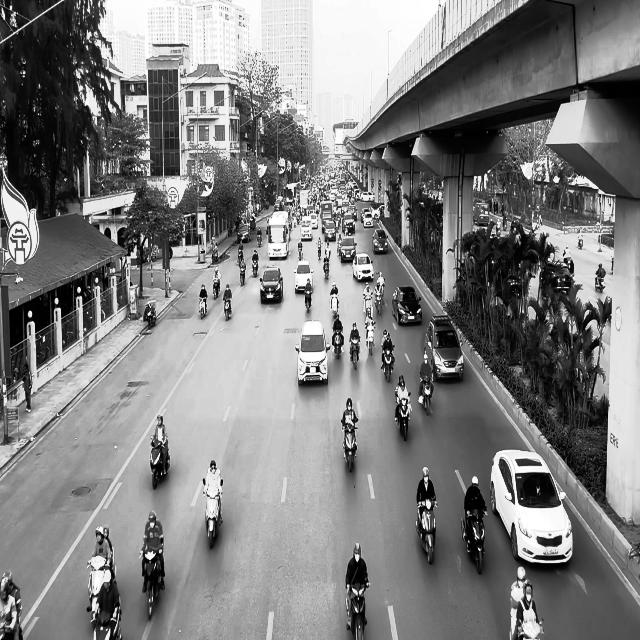car: (490, 449, 573, 566), (424, 314, 464, 382), (294, 320, 330, 386), (392, 285, 422, 325), (259, 266, 283, 304), (293, 260, 314, 294), (352, 253, 374, 282), (372, 228, 388, 254)
motorbike: (460, 508, 487, 574), (141, 548, 165, 620), (415, 499, 438, 564), (345, 582, 370, 639), (203, 478, 223, 548), (149, 435, 170, 489), (394, 391, 412, 442), (341, 419, 358, 472), (517, 617, 544, 639), (419, 376, 433, 416), (381, 345, 395, 382), (349, 336, 360, 369), (365, 320, 375, 356), (332, 328, 343, 358), (146, 301, 156, 328), (223, 294, 232, 320), (304, 284, 312, 312), (595, 273, 605, 292), (199, 296, 207, 319), (239, 262, 246, 286), (213, 279, 220, 299), (252, 258, 258, 277)
